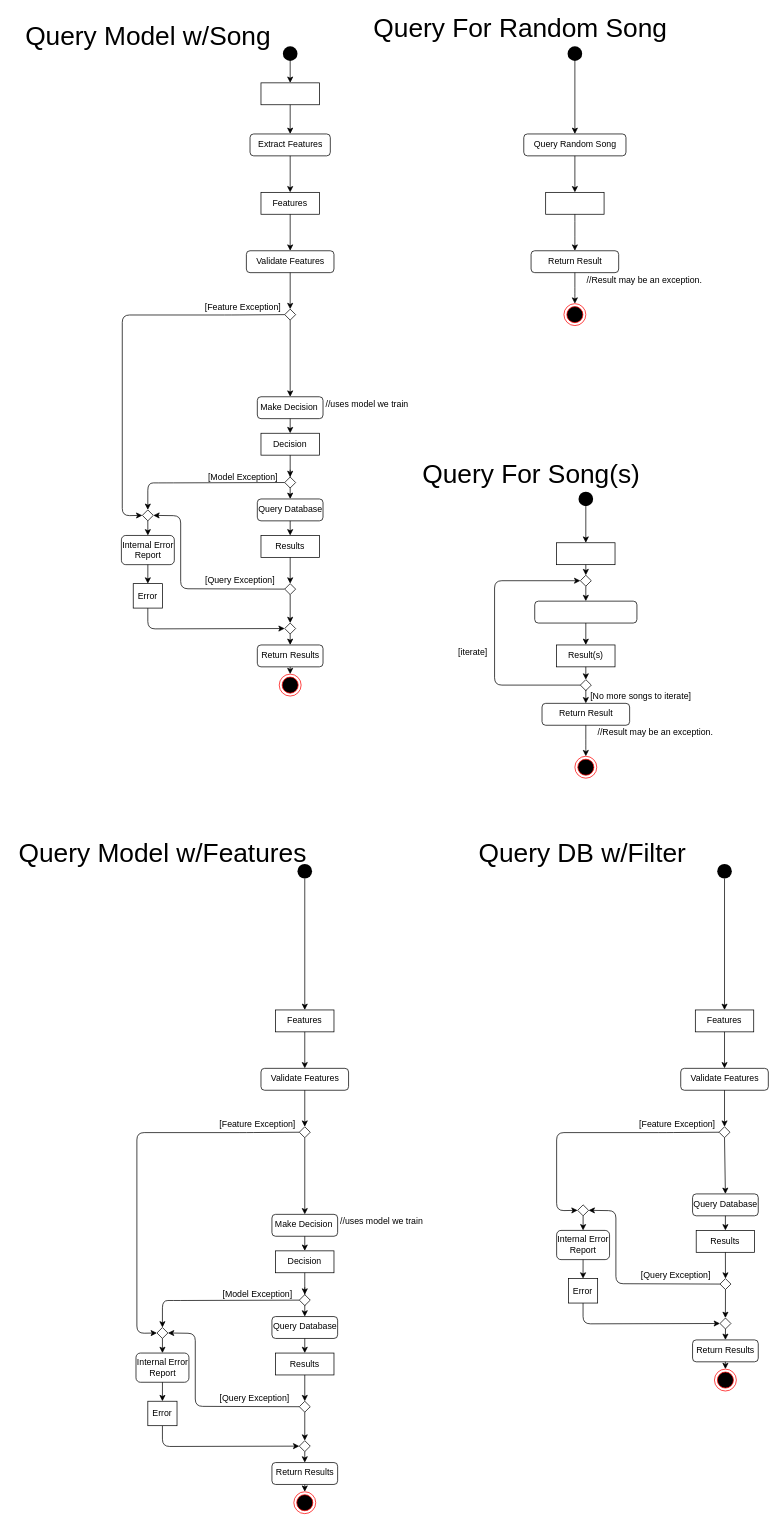
The diagram is 781 pixels wide and 1526 high, and some of its shapes have lost their labels. The centre of each missing label's shape, as x and y in pixels:
"Query Song" goes at point (585, 611).
"Result" goes at point (574, 203).
"Song Input" goes at point (289, 93).
"Song(s)" goes at point (585, 553).
